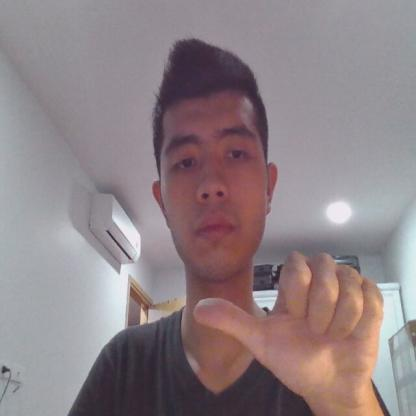right: (190, 250, 383, 397)
